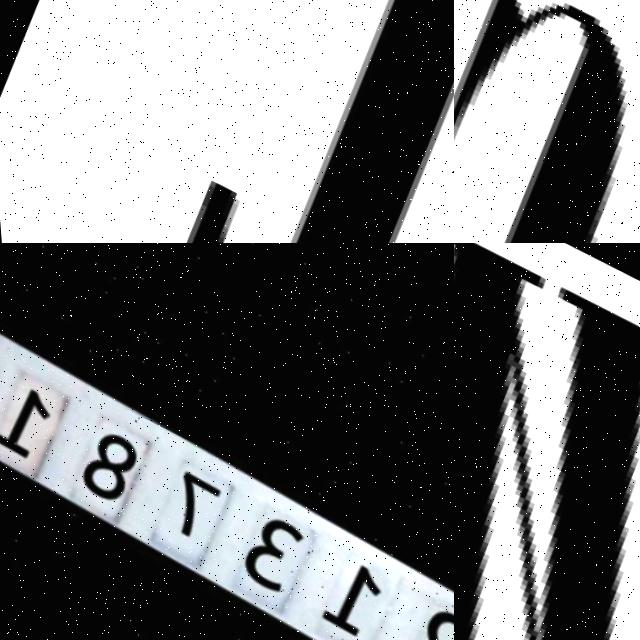1: (295, 529, 416, 640), (0, 361, 83, 482)
2: (373, 570, 454, 640)
3: (211, 482, 335, 617)
7: (137, 444, 247, 564)
8: (51, 399, 171, 529)
C: (454, 0, 622, 243)
L: (86, 0, 454, 243)
W: (454, 243, 640, 640)
